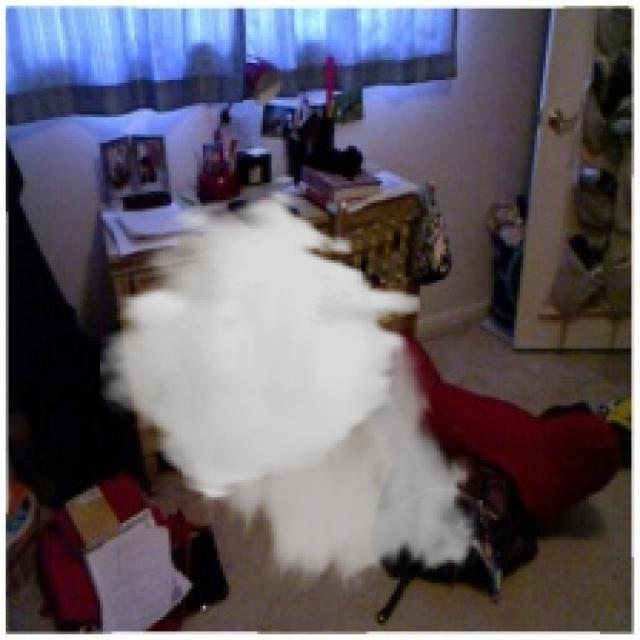smoke: (100, 189, 494, 594)
